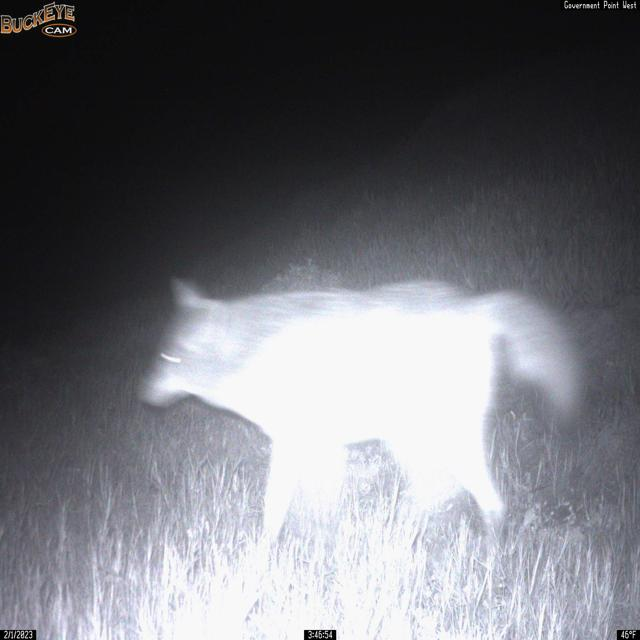coyote: (124, 239, 598, 571)
